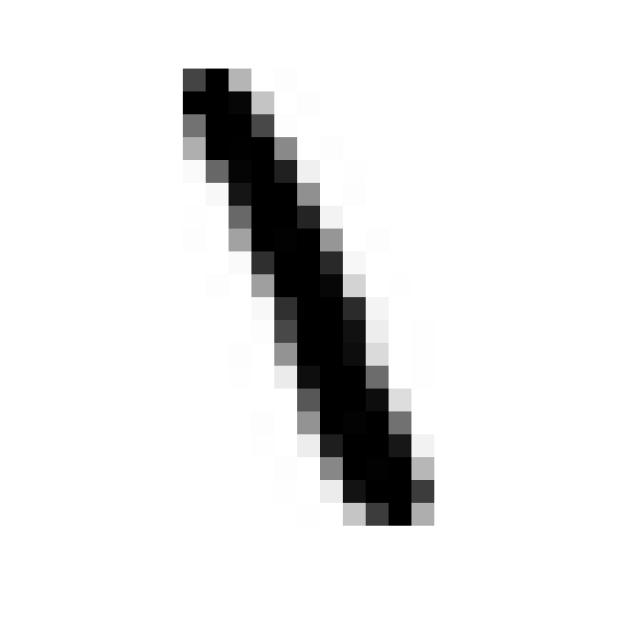1 -one-: (153, 43, 449, 544)
